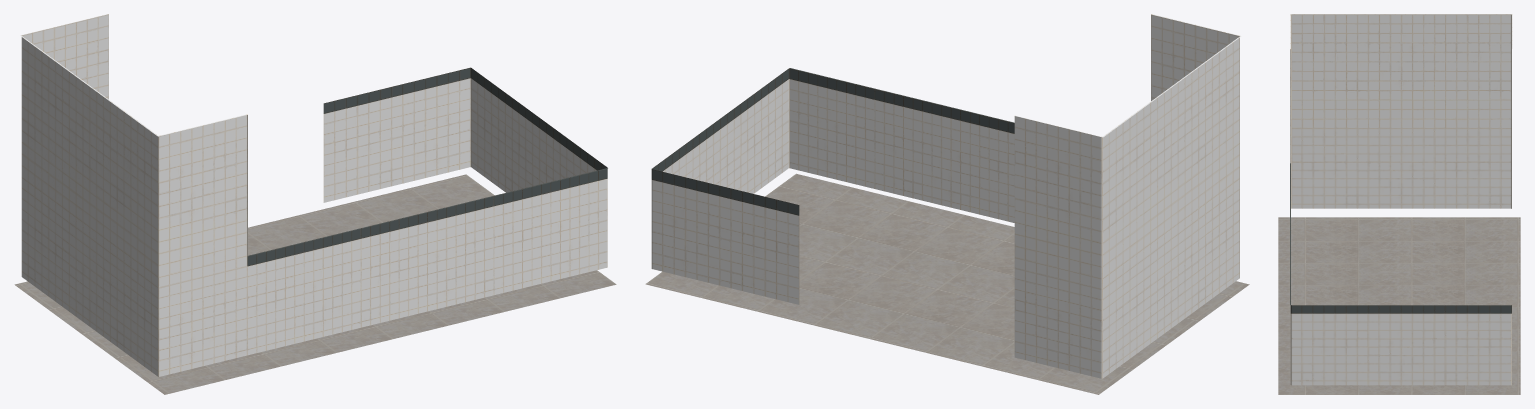
File: SM_BathDecor_A.fbx
3 views of the same model, side by side, from view 1: azimuth 30°, elevation 25°; view 2: azimuth 150°, elevation 25°; view 3: azimuth 270°, elevation 25° (orthographic). The views are drawn at different scales.
Parts seen in each view (by area): view 1: SM_BathDecor_A; view 2: SM_BathDecor_A; view 3: SM_BathDecor_A.
Boxes of the visible parts, box(x1,y1,x2,y2) form: SM_BathDecor_A: box(14, 14, 616, 394); SM_BathDecor_A: box(645, 14, 1249, 394); SM_BathDecor_A: box(1278, 14, 1520, 394).
Size of the model in its own units: 458 by 264 by 245.
3 materials, 3 textured.
